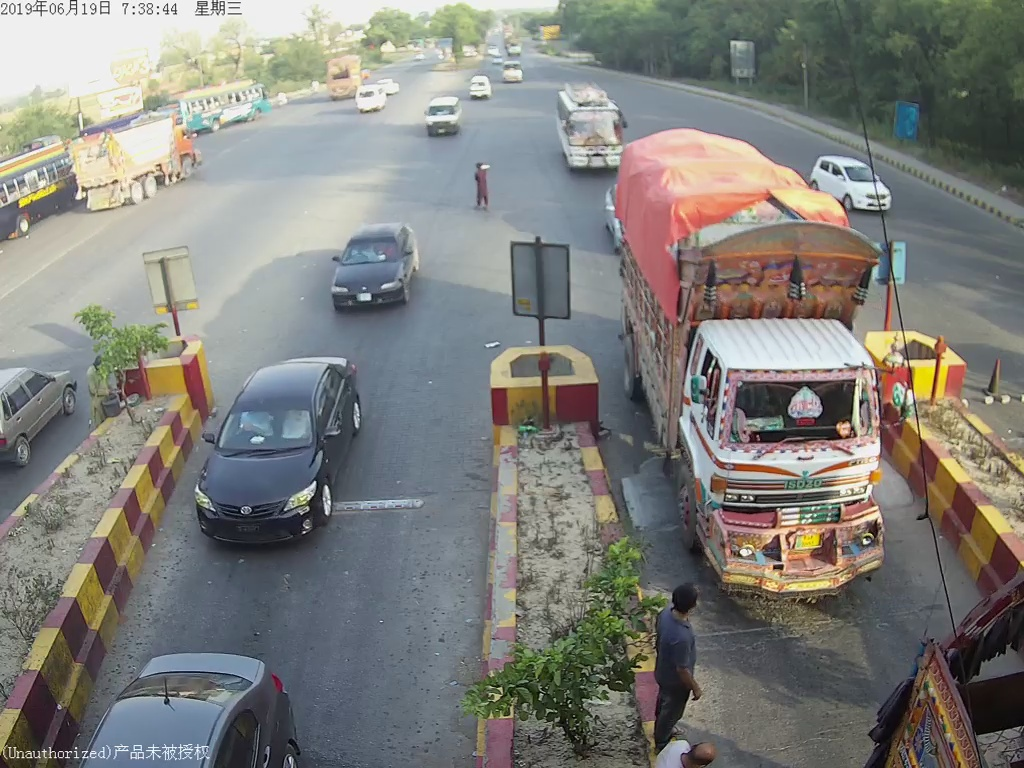Cat-1: (195, 349, 364, 543), (330, 218, 421, 312), (817, 146, 894, 212)
Cat-2: (418, 91, 467, 143)
Cat-3: (551, 75, 628, 172)
Cat-4: (621, 139, 897, 593)
